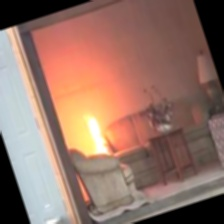fire: (75, 105, 113, 159)
